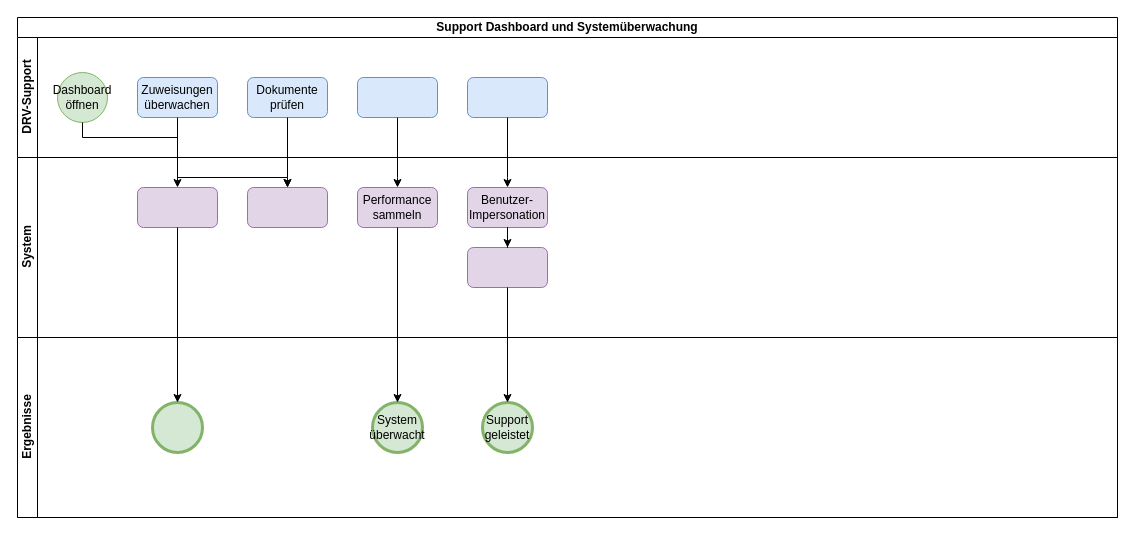
The diagram is 1135 pixels wide and 535 high, and some of its shapes have lost their labels. The shapes that lost their labels are listed below. From the top down, each one's centre as x and y in pixels, then its label:
the point at 397,97: System-Metriken
the point at 507,97: Support-Tools
the point at 177,207: Dashboard laden
the point at 287,207: Auftragsdaten aggregieren
the point at 507,267: Audit-Log
the point at 177,427: Dashboard aktiv
